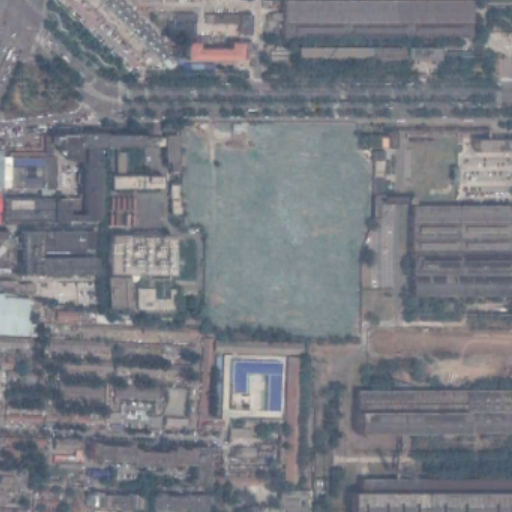cw: (167, 112, 373, 344)
